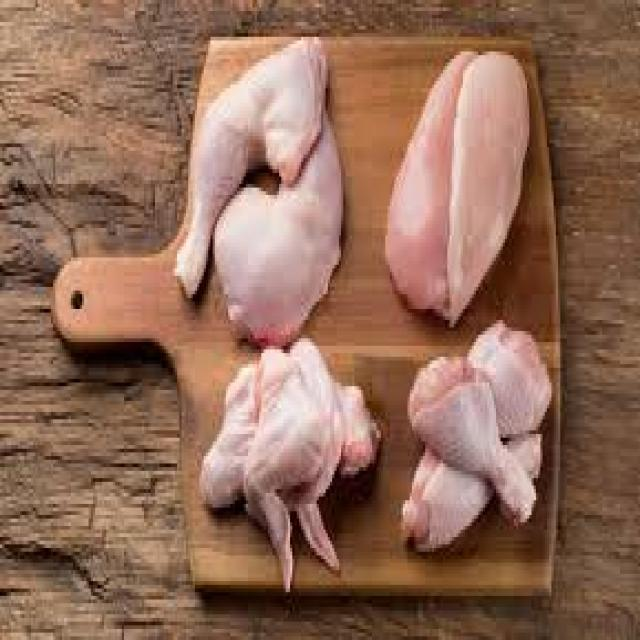Chicken: (167, 32, 351, 348), (193, 336, 384, 599), (380, 42, 534, 328), (396, 311, 556, 577)
